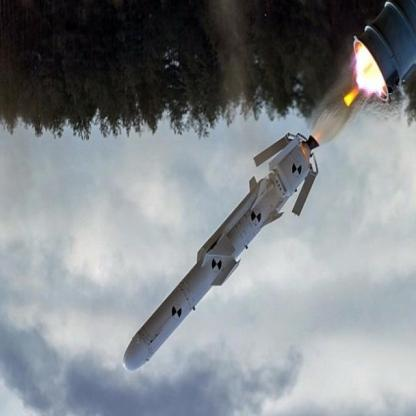MIL_TBM: (114, 131, 320, 386)
